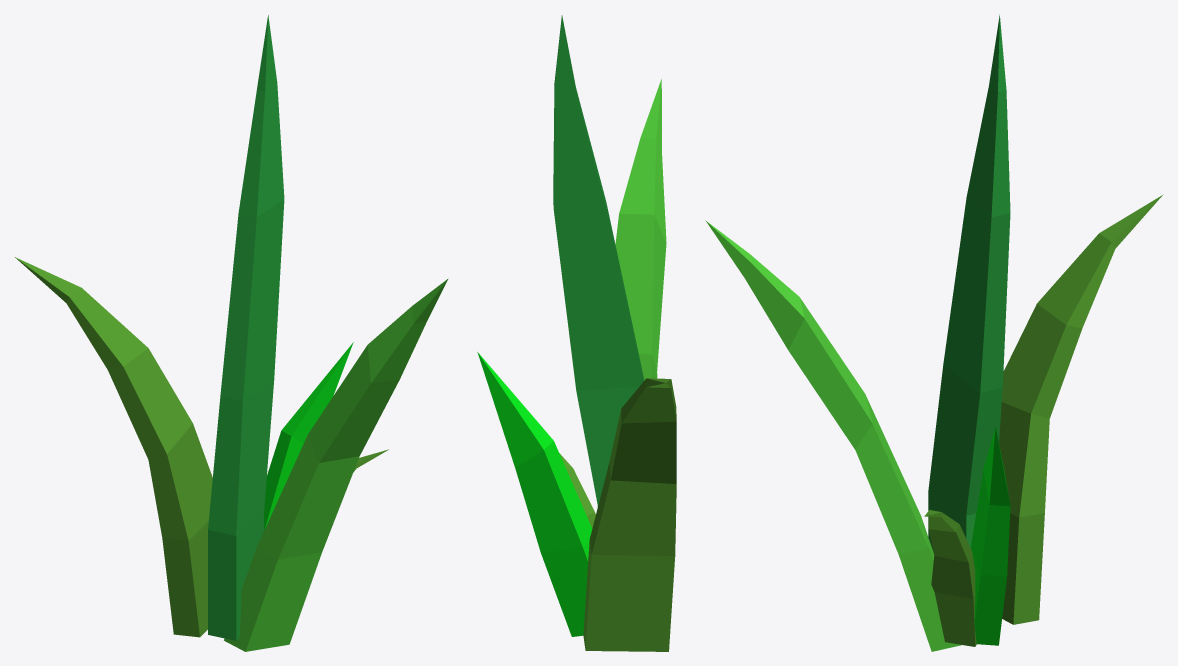
Rendered from grass22.fbx.
3 views of the same model, side by side, from view 1: azimuth 30°, elevation 25°; view 2: azimuth 150°, elevation 25°; view 3: azimuth 270°, elevation 25° (orthographic). The views are drawn at different scales.
Visible parts, largest first — view 1: Cube; view 2: Cube; view 3: Cube.
Boxes of the visible parts, x1,y1,x2,y2 form: Cube: (15,15,448,651); Cube: (477,15,676,651); Cube: (705,14,1163,651).
Size of the model in its own units: 410 by 635 by 290.
